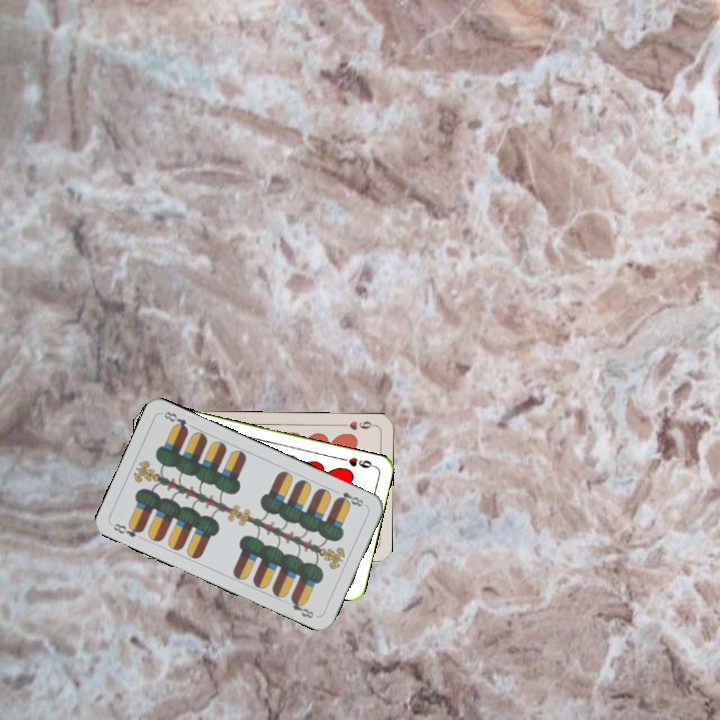E8: (332, 488, 369, 509), (109, 519, 146, 540)
H9: (338, 453, 378, 471), (337, 417, 377, 433)
